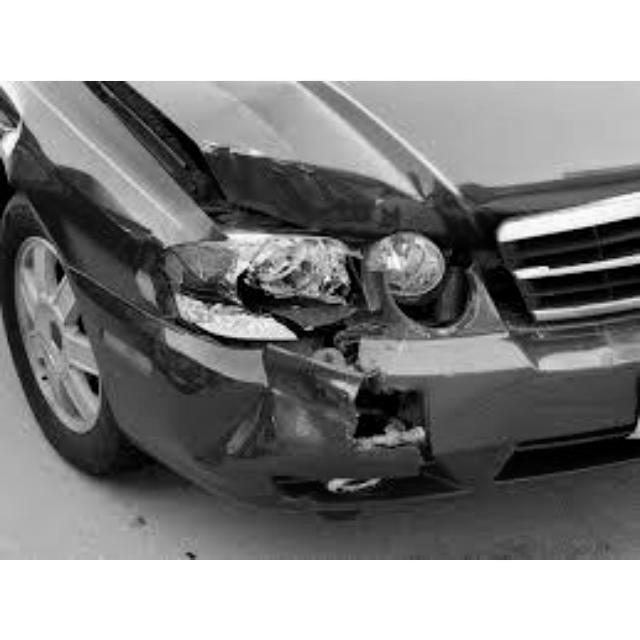Headlight-damage: (156, 218, 462, 351)
bonnet-dent: (102, 81, 514, 236)
fender-dent: (1, 81, 144, 288)
front-bumper-dent: (204, 341, 521, 515)
